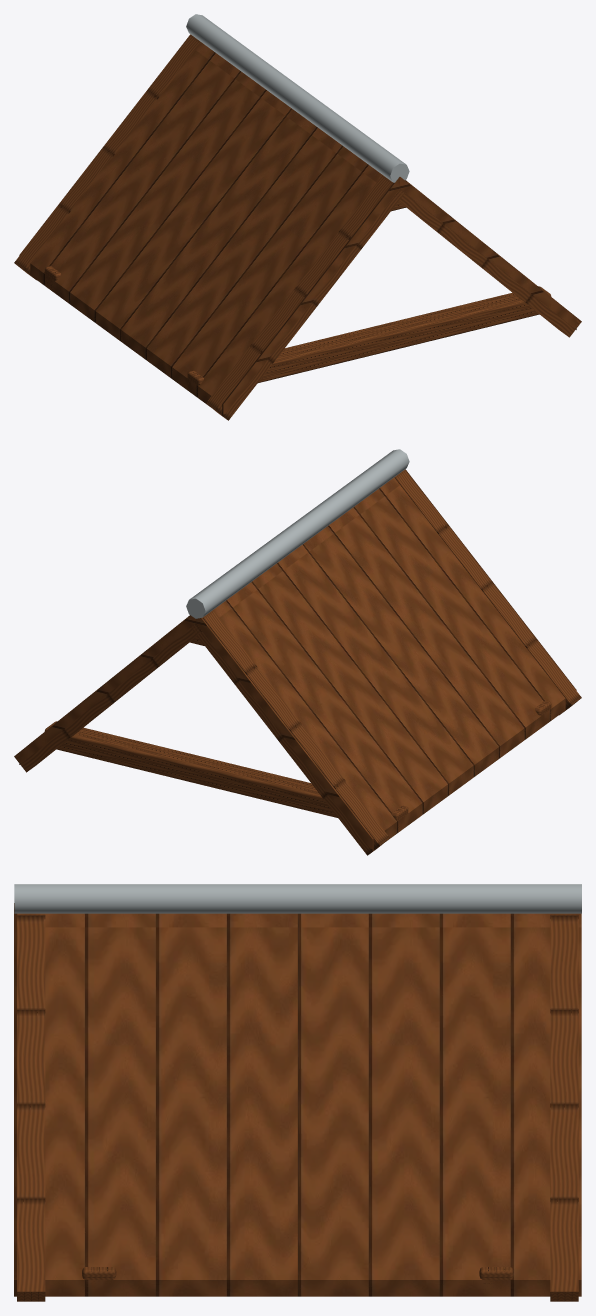
File: modular-survival-base-builder-roof-gable-span-c2b9490e__24174.glb
3 views of the same model, one above another, from view 1: azimuth 30°, elevation 25°; view 2: azimuth 150°, elevation 25°; view 3: azimuth 270°, elevation 25° (orthographic). The views are drawn at different scales.
Parts seen in each view (by area): view 1: roof-gable-span; view 2: roof-gable-span; view 3: roof-gable-span.
Part boxes in pixels (x1,y1,x2,y2): roof-gable-span: [14, 14, 581, 420]; roof-gable-span: [14, 449, 581, 855]; roof-gable-span: [14, 884, 581, 1301].
Size of the model in its own units: 2.07 by 1.17 by 2.
Materials: 2 (1 with a texture image).
